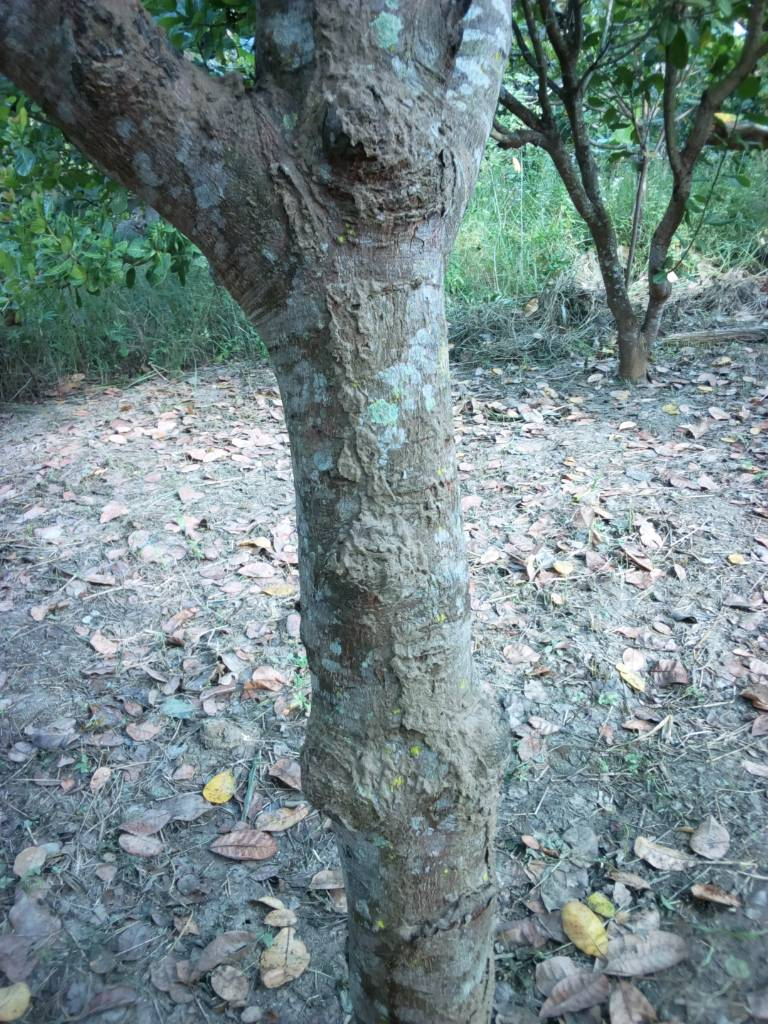Termites: (321, 272, 499, 967), (82, 3, 454, 239)
